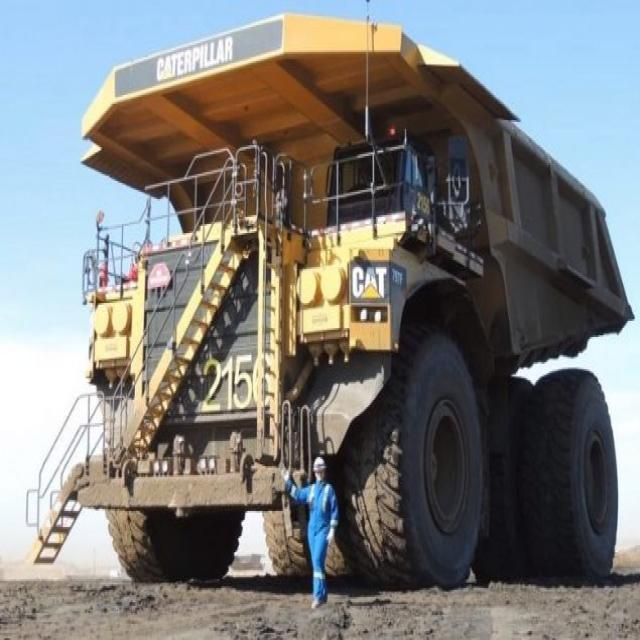dump_truck: (29, 6, 630, 596)
